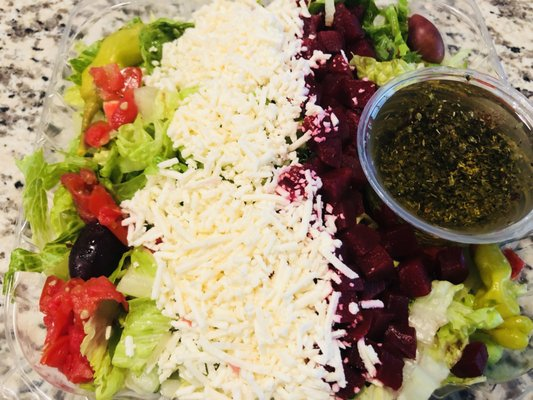curry: (136, 18, 195, 75)
sushi: (0, 0, 533, 400), (356, 67, 533, 247)
